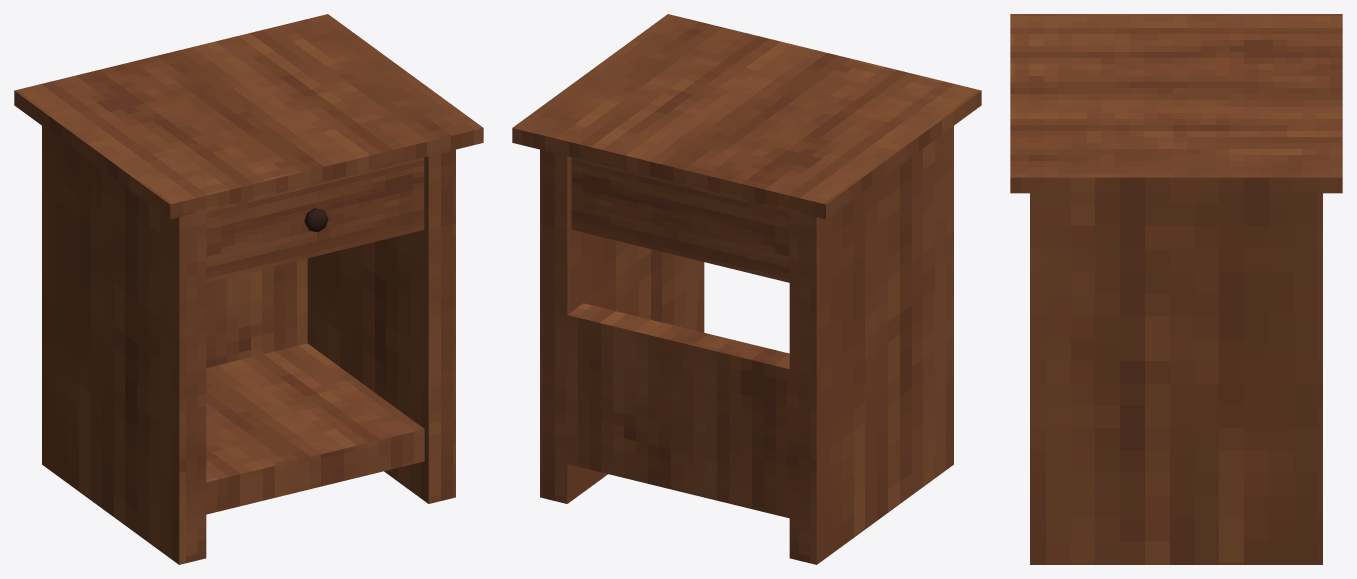
The model's file is nightstand_psx.glb.
The picture shows the model from 3 angles, left to right: view 1: azimuth 30°, elevation 25°; view 2: azimuth 150°, elevation 25°; view 3: azimuth 270°, elevation 25°; orthographic projection. The views are drawn at different scales.
Parts seen in each view (by area): view 1: Nightstand, Nightstand drawer; view 2: Nightstand, Nightstand drawer; view 3: Nightstand.
Boxes of the visible parts, box(x1,y1,x2,y2) form: Nightstand: box(14, 14, 483, 564); Nightstand drawer: box(206, 157, 424, 282); Nightstand: box(512, 14, 981, 564); Nightstand drawer: box(571, 157, 789, 282); Nightstand: box(1010, 14, 1342, 564).
Bounding box in the file's own units: 0.5864 × 0.6641 × 0.5041.
Materials: 2 (1 with a texture image).
